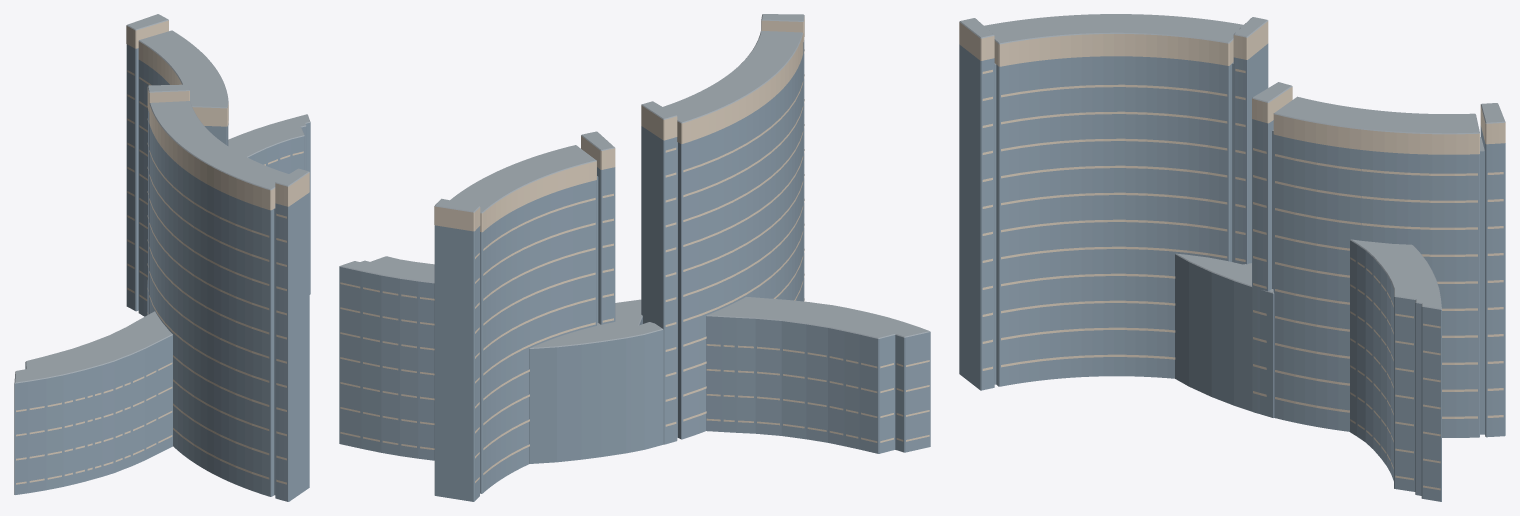
File: lv-aria.glb
3 views of the same model, side by side, from view 1: azimuth 30°, elevation 25°; view 2: azimuth 150°, elevation 25°; view 3: azimuth 270°, elevation 25° (orthographic). The views are drawn at different scales.
Parts seen in each view (by area): view 1: Aria Resort & Casino; view 2: Aria Resort & Casino; view 3: Aria Resort & Casino.
Part boxes in pixels (left/top/right/bottom): Aria Resort & Casino: left=14, top=14, right=310, bottom=501; Aria Resort & Casino: left=339, top=14, right=930, bottom=501; Aria Resort & Casino: left=959, top=14, right=1505, bottom=501.
Size of the model in its own units: 263 by 183 by 257.
